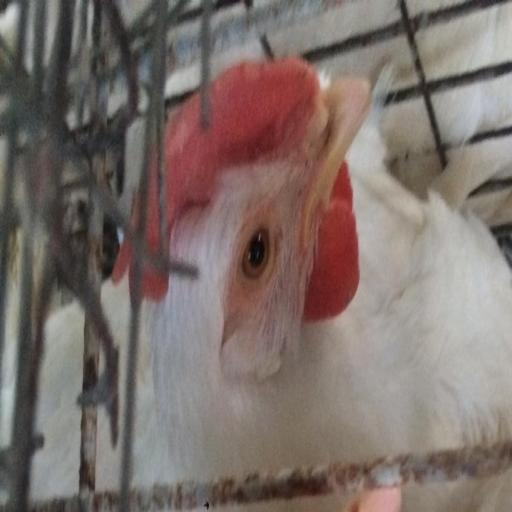healthy: (176, 105, 324, 377)
